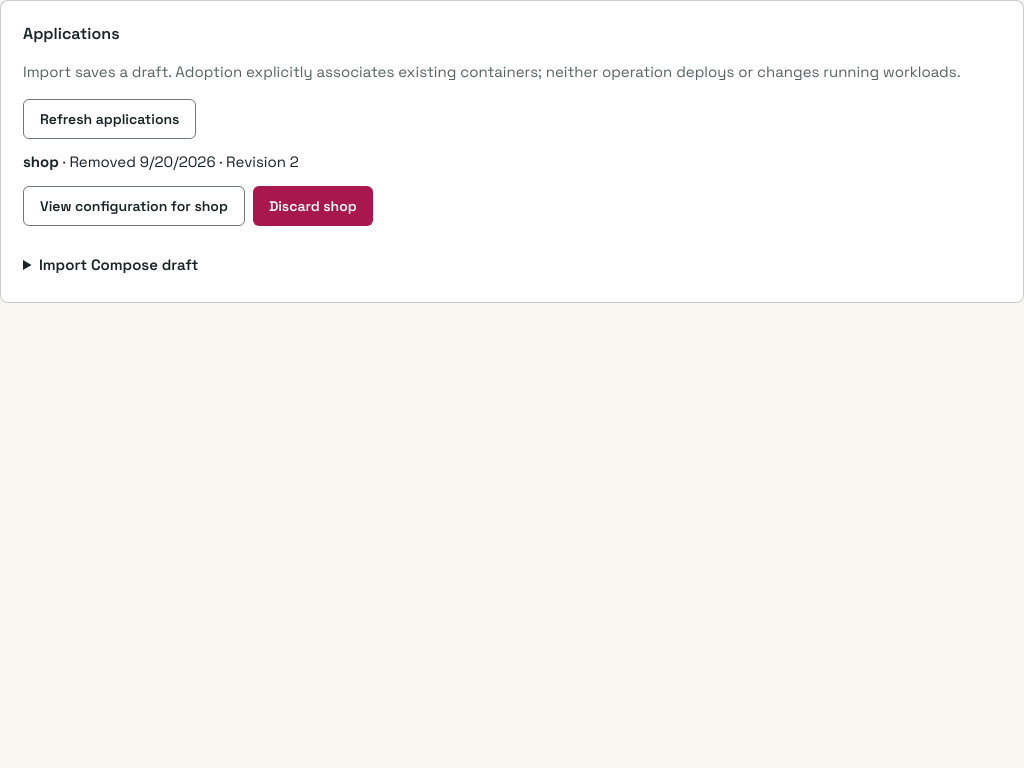
Test case: shows the history of a removed application, which has no instance
Click the button "View configuration for shop" at x=134, y=206, box [23,186,245,226]
(page scrolled)
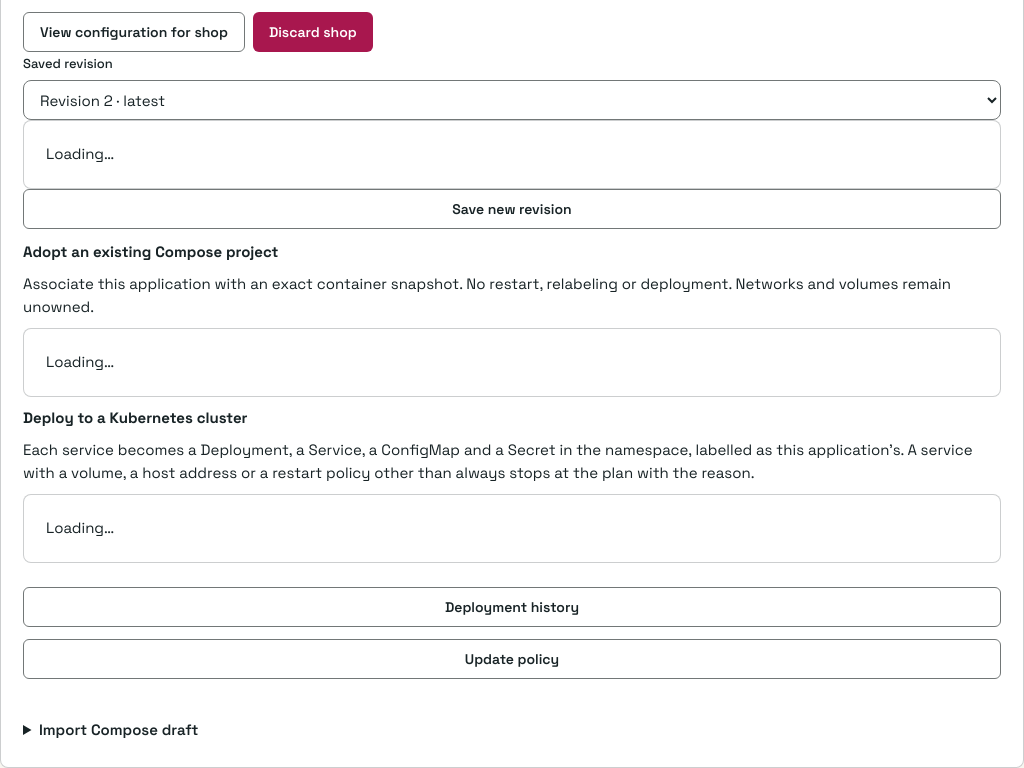
Click the button "Deployment history" at x=512, y=607, box [23,587,1001,627]
(page scrolled)
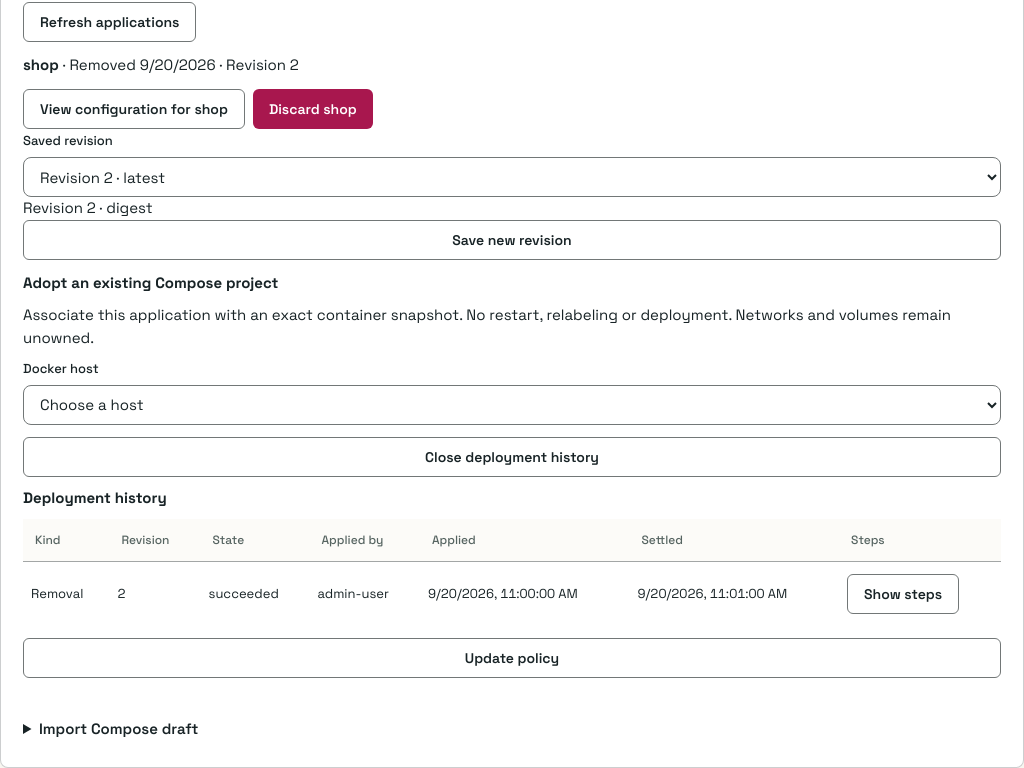
Expected: the heading "Deployment history" is shown, [23,488,167,507]
Expected: the row that starts with "Removal" is shown, [31,585,83,602]
Expected: the row that starts with "Removal" shows "succeeded", [209,585,279,602]
Click the button "Show steps" at x=903, y=594, box [847,574,959,614]
(page scrolled)
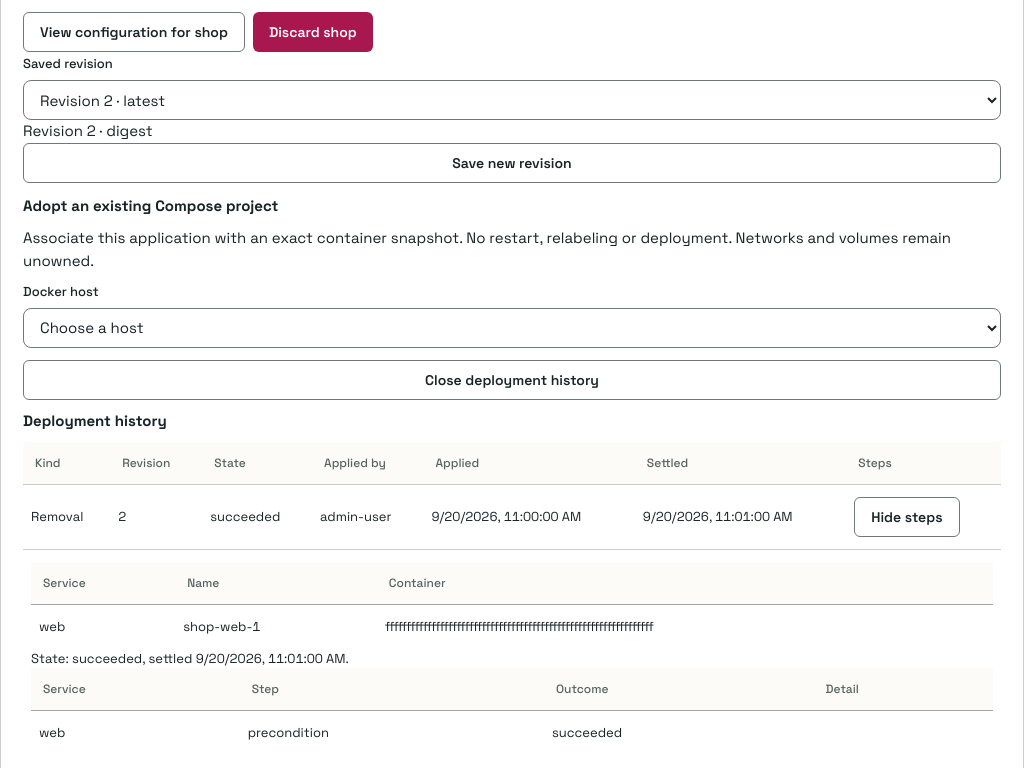
Expected: the text "shop-web-1" is shown, [175,605,377,649]
